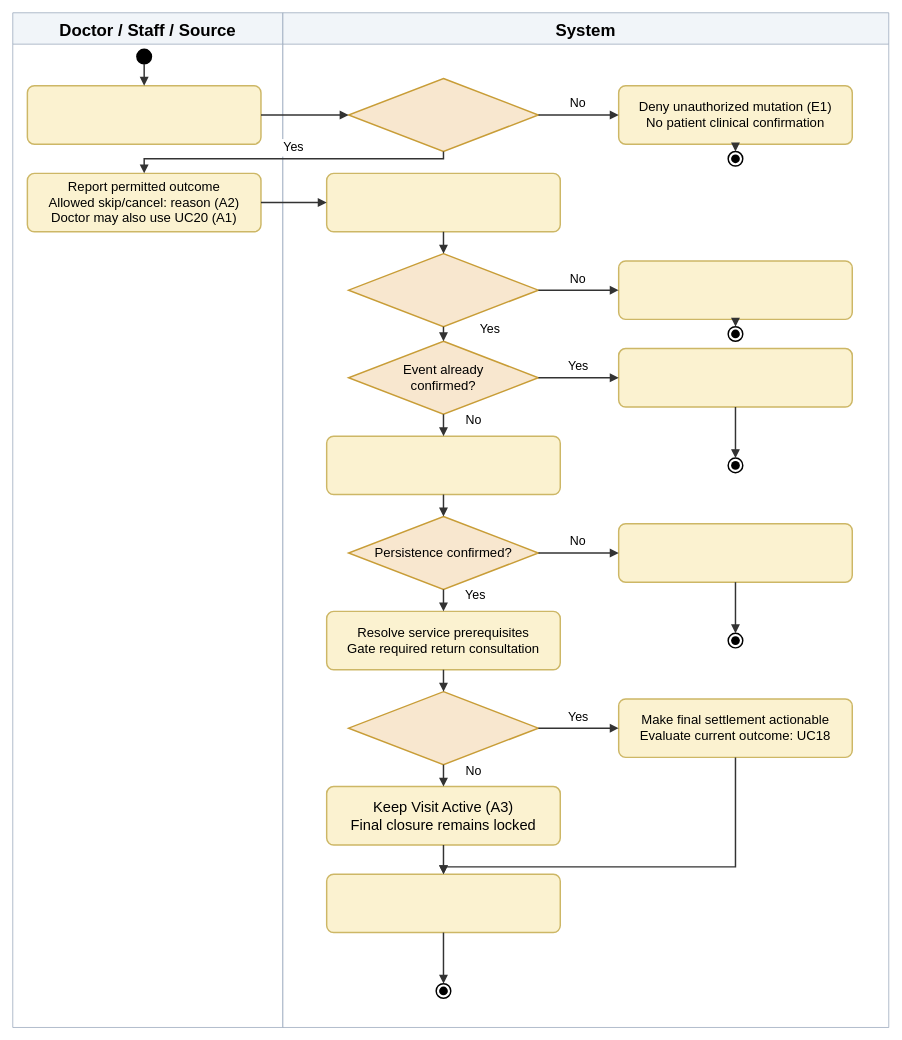
The diagram is 902 pixels wide and 1040 high, and some of its shapes have lost their labels. The shapes that lost their labels are listed below. From the top down, each one's centre as x and y in pixels, then its label:
the point at 143,115: Open assigned Visit / service or provide a trusted event
the point at 443,114: Authorized actor/source and Active Visit?
the point at 443,202: Accept staff report or trusted event Check state, step and event identity
the point at 443,290: Transition and event valid?
the point at 735,290: Reject invalid transition (E2) Reload before correction
the point at 735,377: Return prior result (A4) Do not repeat transitions
the point at 443,465: Persist event and step changes Source, actor, event ID and time
the point at 735,553: Keep confirmed progress (E3) Check result and retry same event
the point at 443,728: All required clinical work resolved?
the point at 443,903: Refresh guidance and confirmed queue information for Patient
